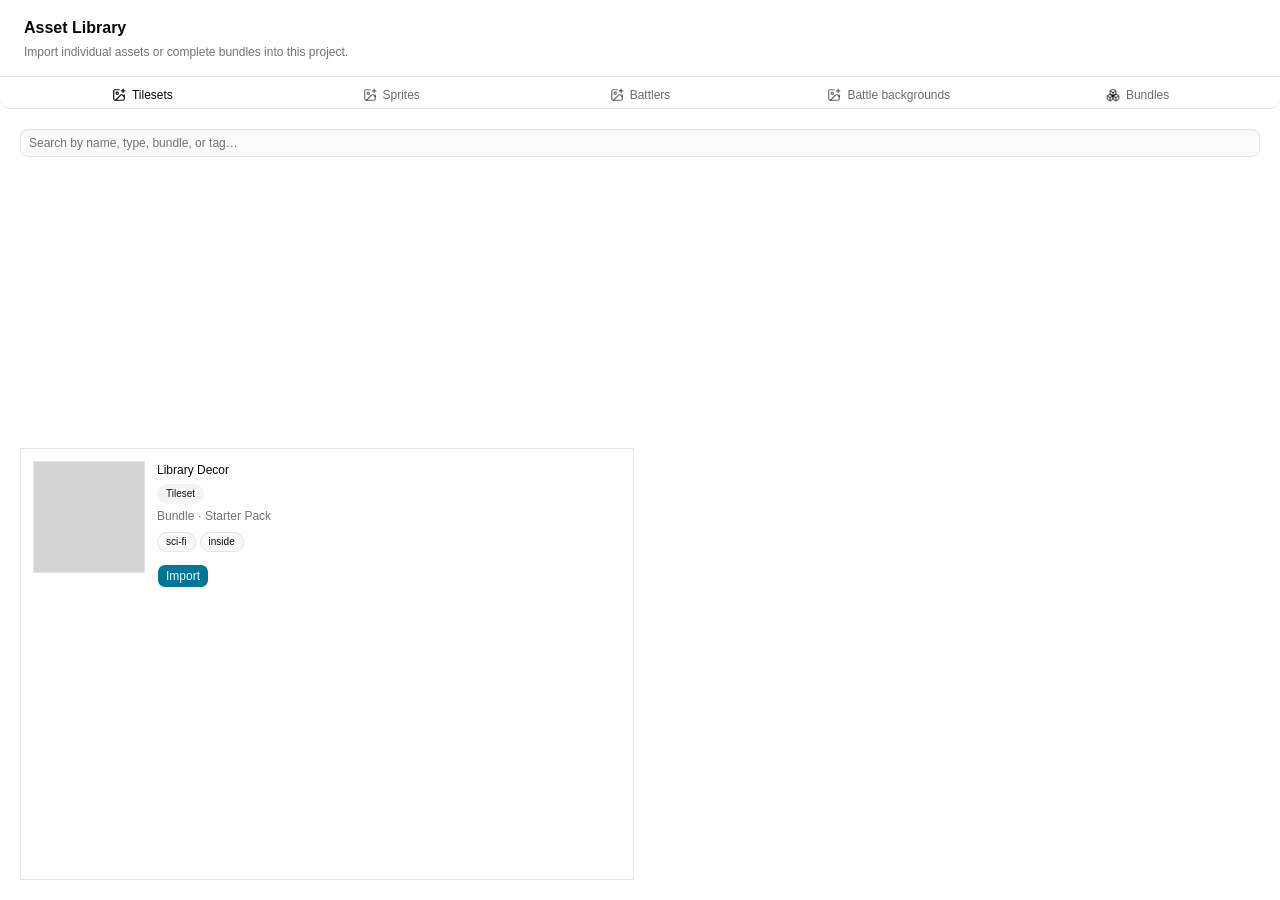
Test: Asset library and project tileset editor › shows and imports battlers and battle backgrounds
The width and height of the screenshot is (1280, 900).
Click the tab "Battlers": (640, 95) [518,86,762,104]
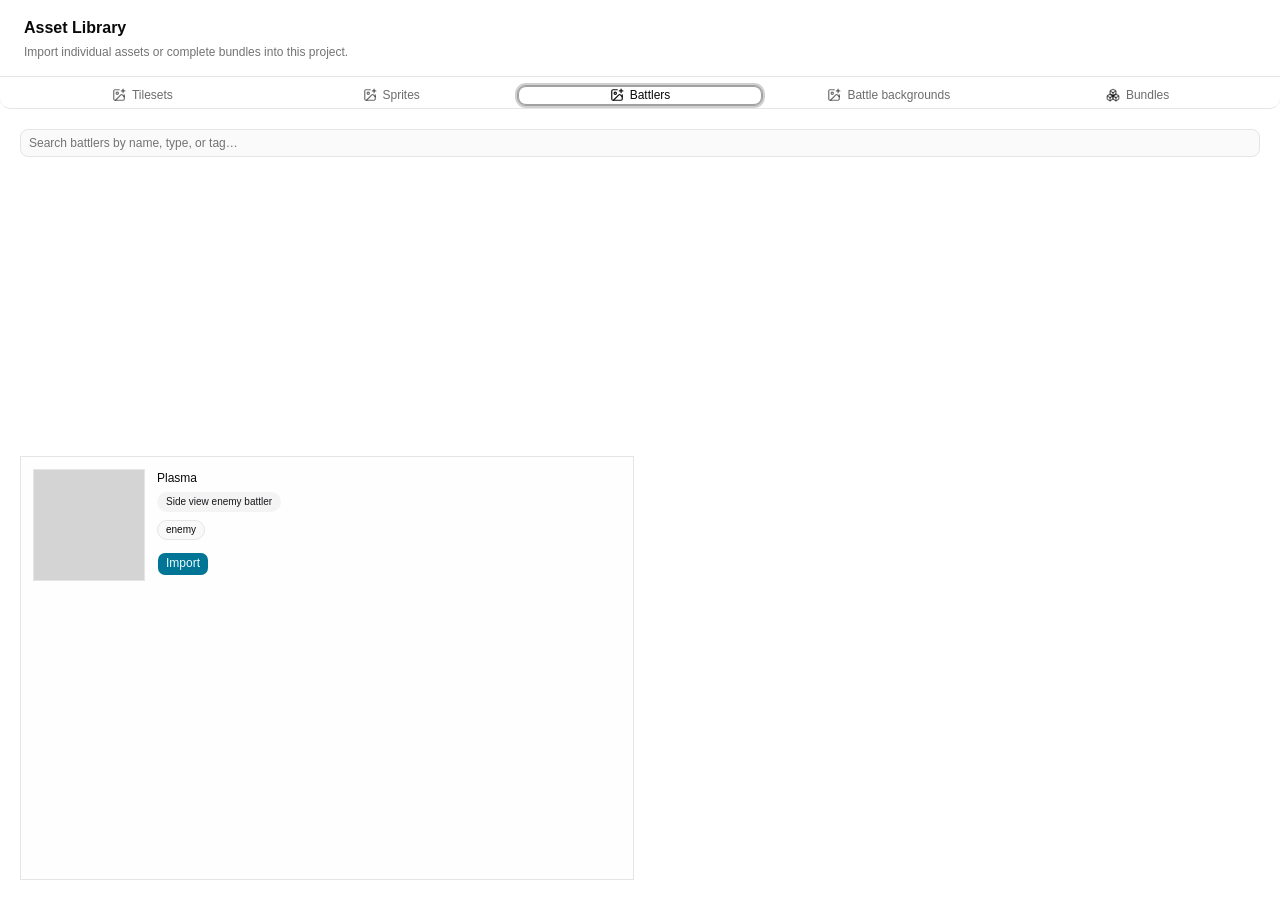
Click the button "Import": (183, 564) [157,552,209,576]
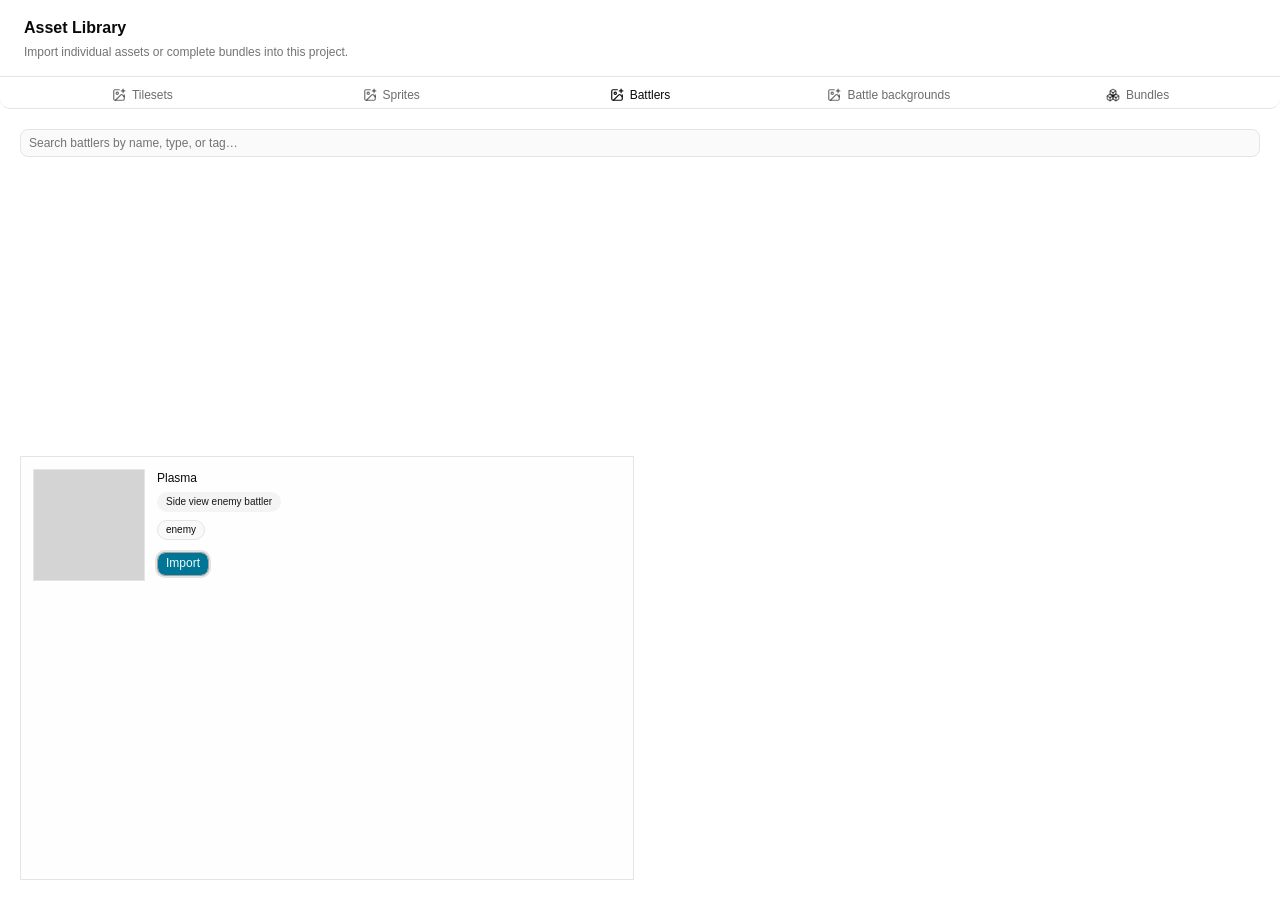
Click the tab "Battle backgrounds": (889, 95) [766,86,1011,104]
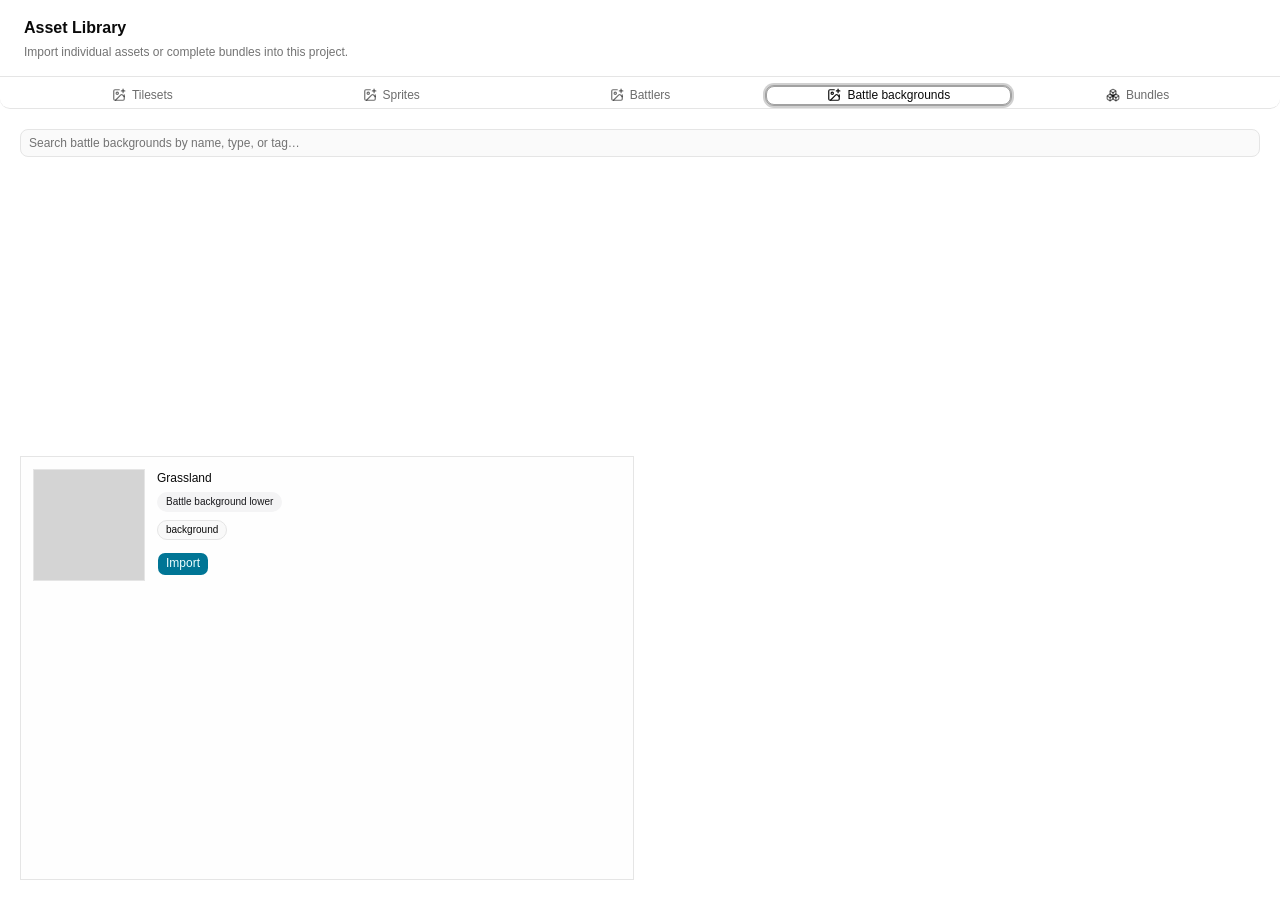
Check: the text "Grassland" is shown, box [157,470,212,484]
